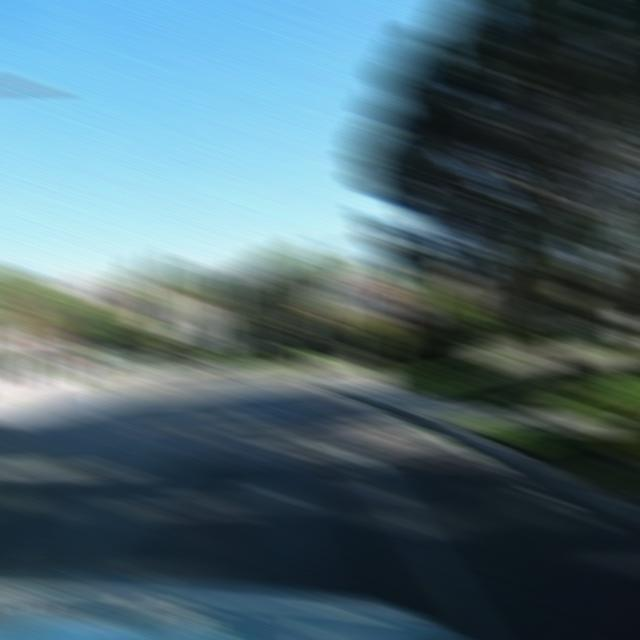stop_sign: (378, 294, 414, 326)
